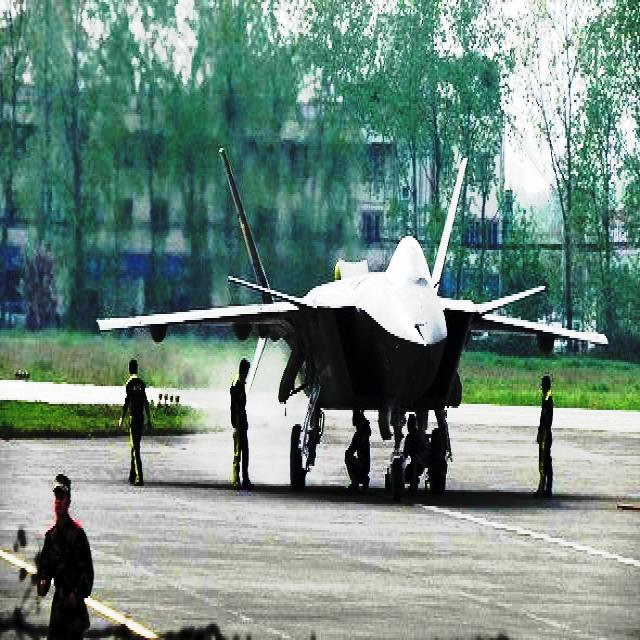Aircraft: (87, 140, 612, 502)
